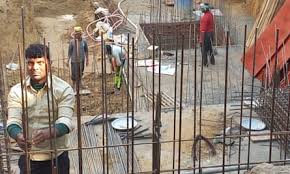arm: (24, 80, 76, 147), (4, 85, 29, 146), (198, 14, 206, 43)
face: (25, 55, 48, 82)
footwear: (201, 53, 209, 66), (209, 51, 216, 64)
glove: (13, 128, 30, 147)
human: (3, 42, 76, 174), (196, 1, 219, 66), (66, 24, 89, 84)
leg: (201, 31, 209, 65), (208, 31, 216, 62)
nogoggle: (26, 59, 45, 67)
nohelmet: (20, 38, 52, 58), (199, 1, 211, 11)
novest: (14, 82, 64, 145), (199, 11, 214, 32)
